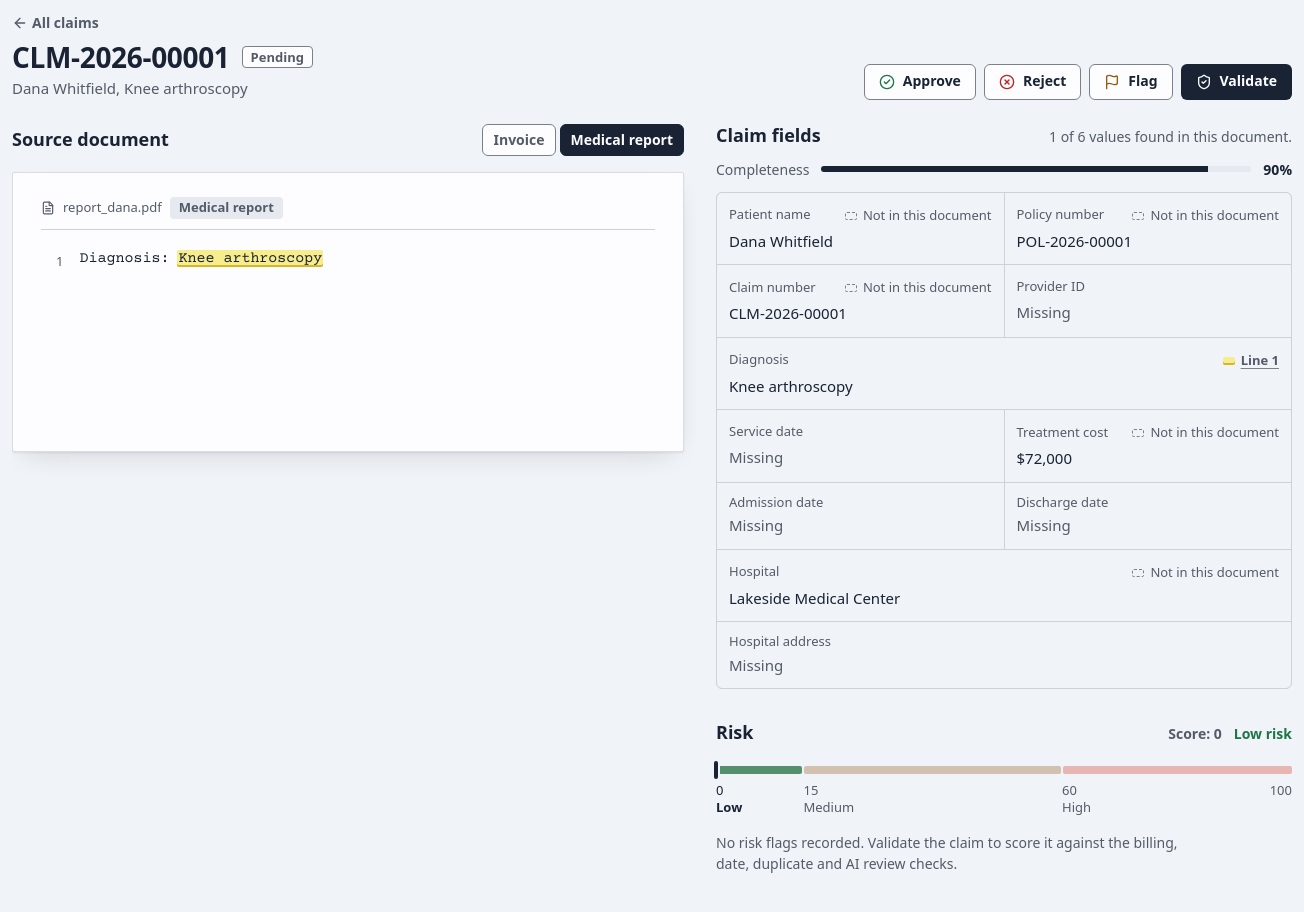
ClaimDetailPage › opens the source document named in the link and switches between documents
What coordinates should you click on to do the following:
click the button "Invoice"
I would click on:
 (519, 140)
Its box is 482,124 -> 556,156.
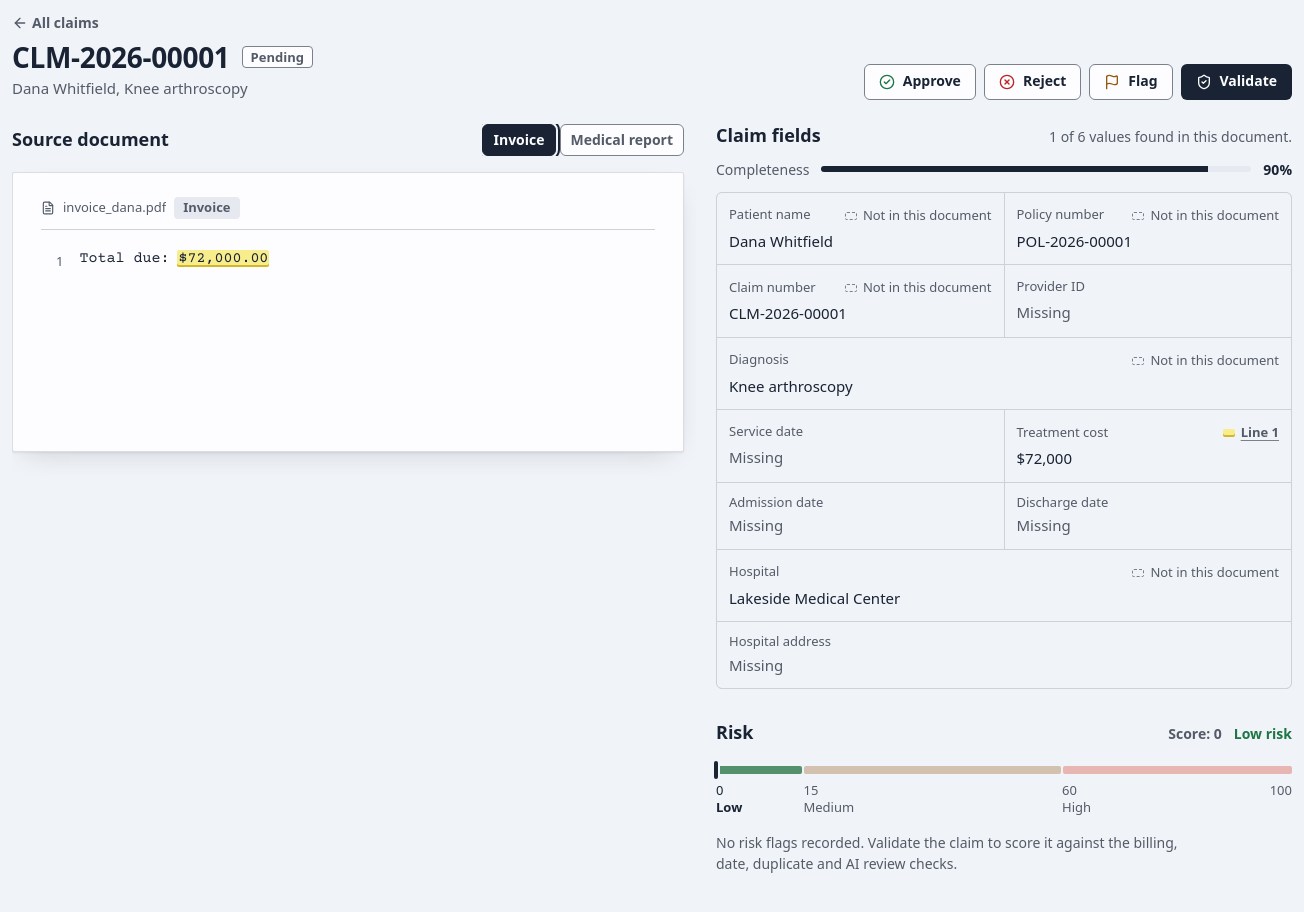
Result: the button with aria-label "Show treatment cost in the document: Line 1" is shown at 1217,421 -> 1285,445
